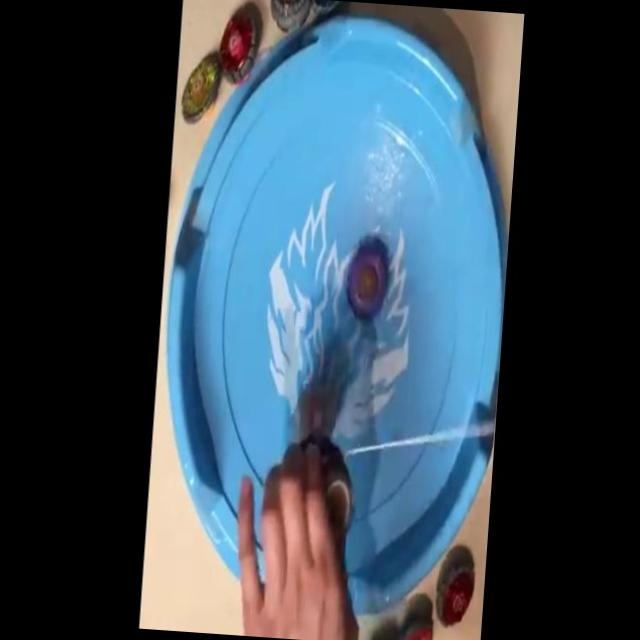Beyblade: (344, 247, 388, 322), (218, 8, 260, 84), (179, 54, 221, 126), (434, 562, 476, 628), (294, 381, 336, 446)
